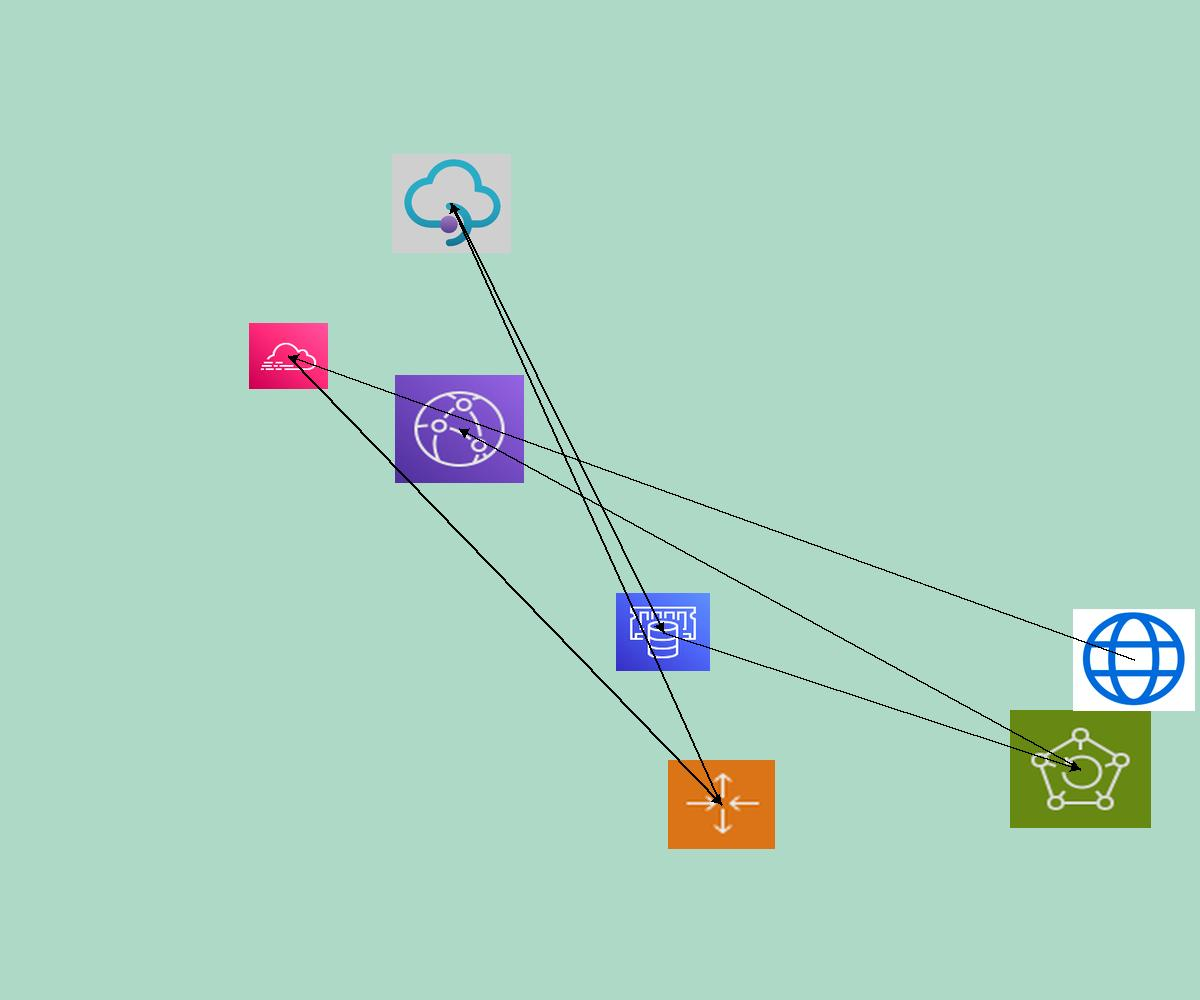AWS-Backup: (1010, 710, 1151, 828)
AWS-CloudFront: (395, 375, 524, 483)
AWS-CloudTrail: (249, 323, 328, 389)
AWS-ElastiCache: (616, 593, 710, 671)
AWS-Scaling-group: (668, 760, 775, 849)
Azure_api_gateway: (392, 154, 511, 253)
Azure_http: (1073, 609, 1195, 711)
